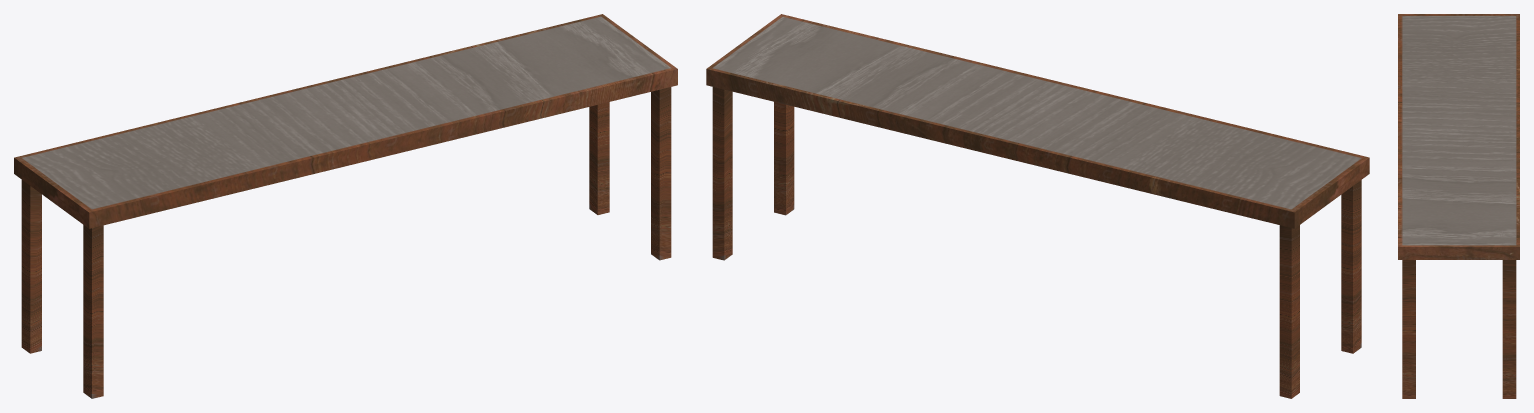
File: enlargerTable.fbx
3 renders of one model, left to right at view 1: azimuth 30°, elevation 25°; view 2: azimuth 150°, elevation 25°; view 3: azimuth 270°, elevation 25°, orthographic. The views are drawn at different scales.
Visible parts, largest first — view 1: Cube; view 2: Cube; view 3: Cube.
Part boxes in pixels (bbox=[...]): Cube: bbox=[14, 14, 677, 398]; Cube: bbox=[706, 14, 1369, 398]; Cube: bbox=[1398, 14, 1519, 398].
Bounding box in the file's own units: 5.58 × 1.72 × 1.23.
Materials: 1 (1 with a texture image).
